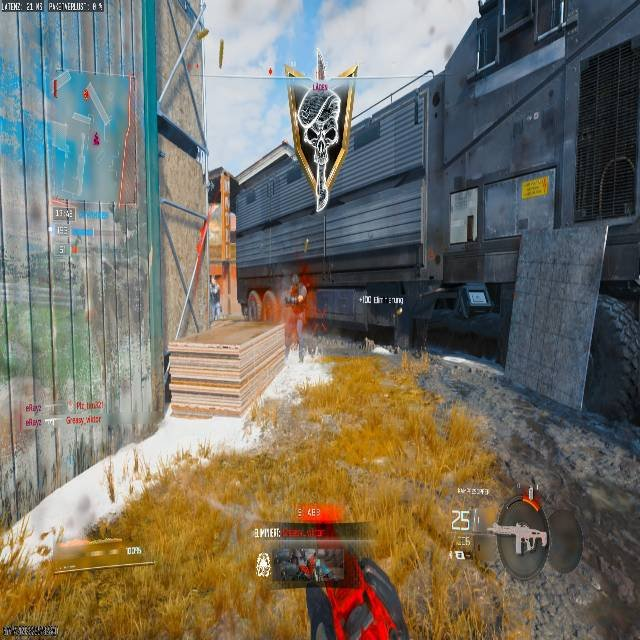player: (284, 276, 307, 358)
